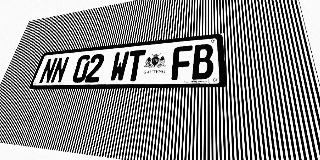0: (71, 54, 92, 83)
2: (84, 53, 105, 83)
B: (192, 43, 214, 80)
F: (171, 45, 192, 80)
N: (50, 56, 70, 84), (38, 58, 58, 84)
T: (125, 50, 146, 81)
W: (109, 51, 130, 82)
